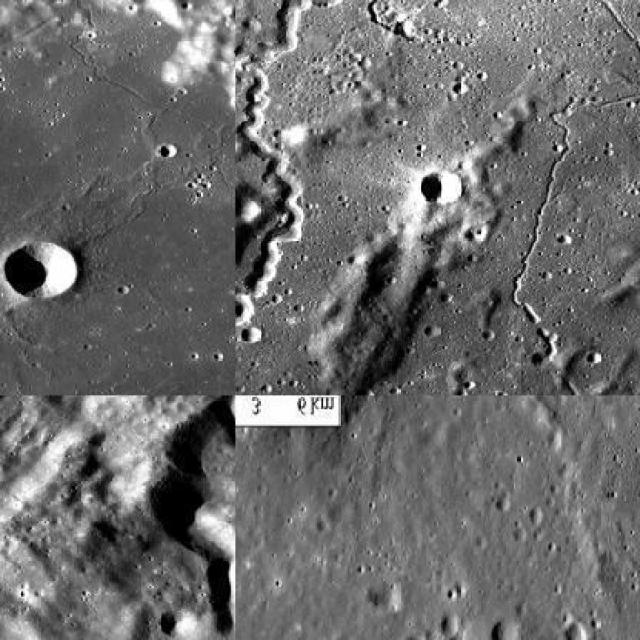rille: (236, 0, 498, 360), (298, 396, 638, 638), (477, 0, 638, 394), (37, 0, 234, 309), (148, 396, 234, 638)
